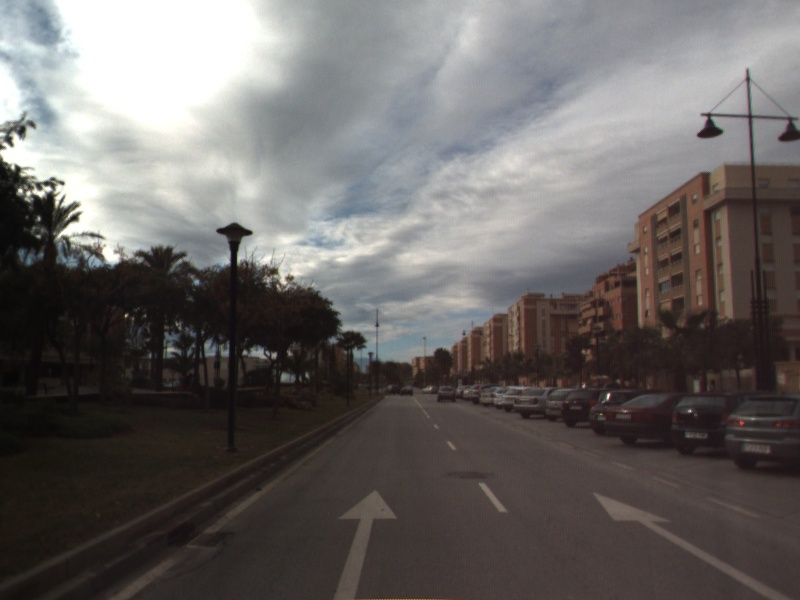STRAIGHT: (591, 490, 796, 600), (330, 487, 400, 600)
